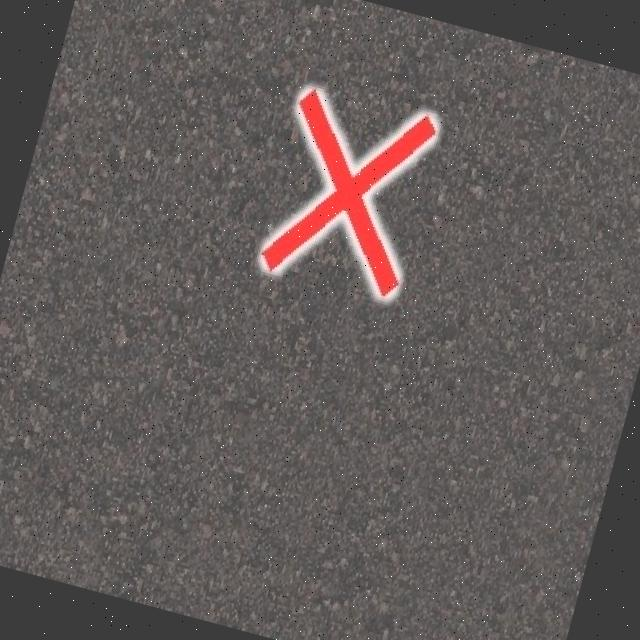x_marker: (256, 82, 439, 298)
